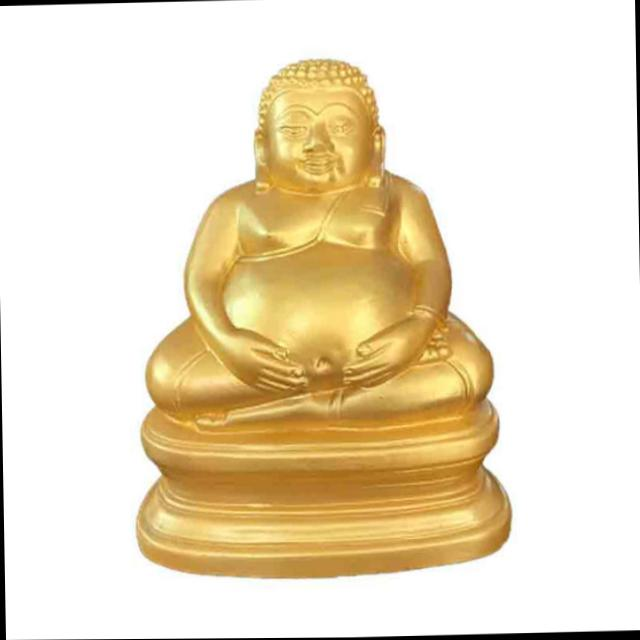Smiling Buddha: (143, 49, 480, 418)
